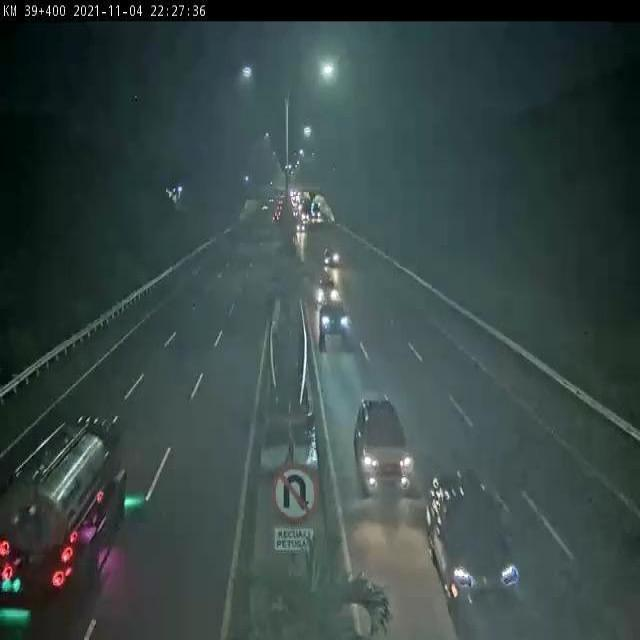car: (428, 472, 520, 597), (355, 395, 413, 491), (319, 303, 348, 347), (314, 278, 338, 306)
truck: (0, 420, 126, 599)
